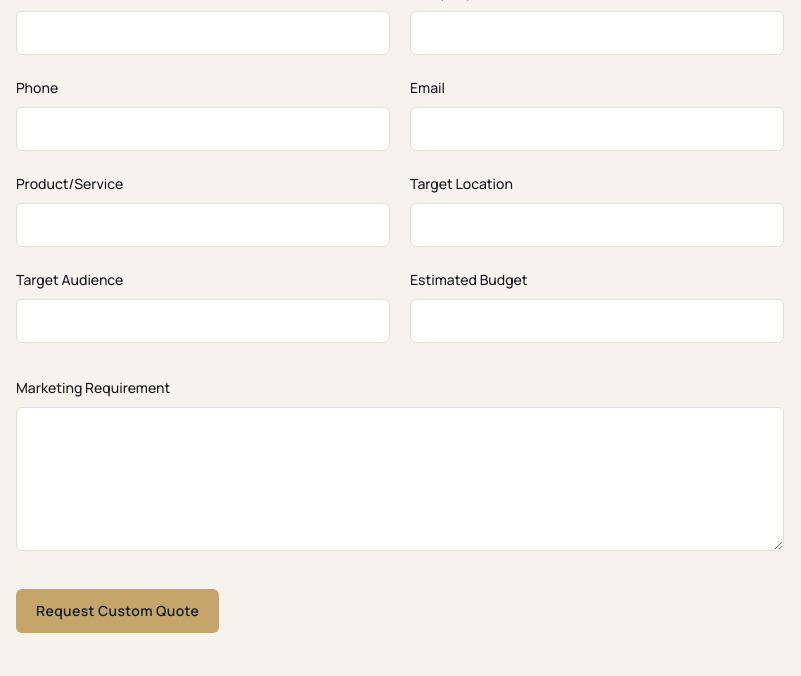
Test case: custom quote › asks for a channel before sending the request
This screenshot has width=801, height=676.
(page scrolled)
Click the button "Request Custom Quote" at (118, 611), box [16,589,219,633]
(page scrolled)
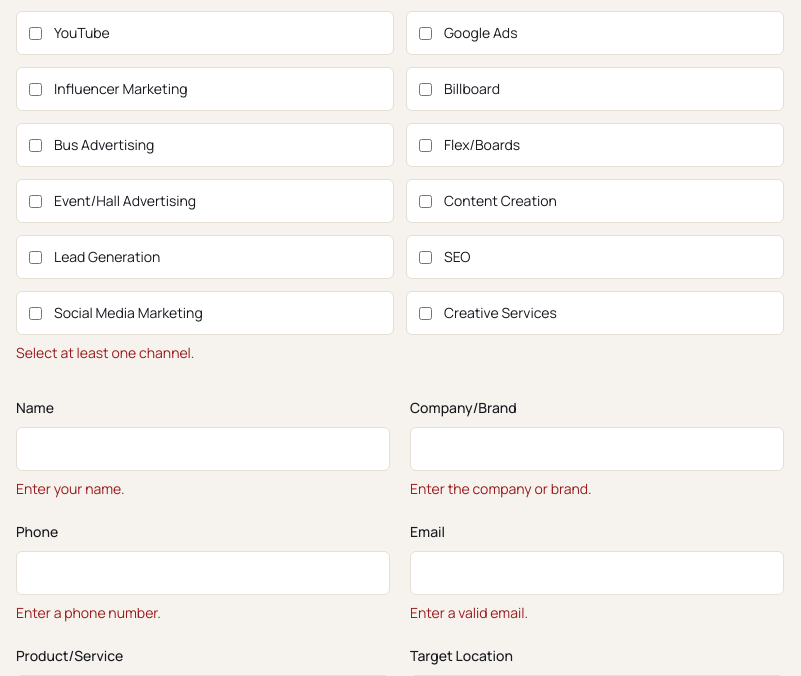
Expected: the text "Select at least one channel." is shown, [16,343,194,362]
